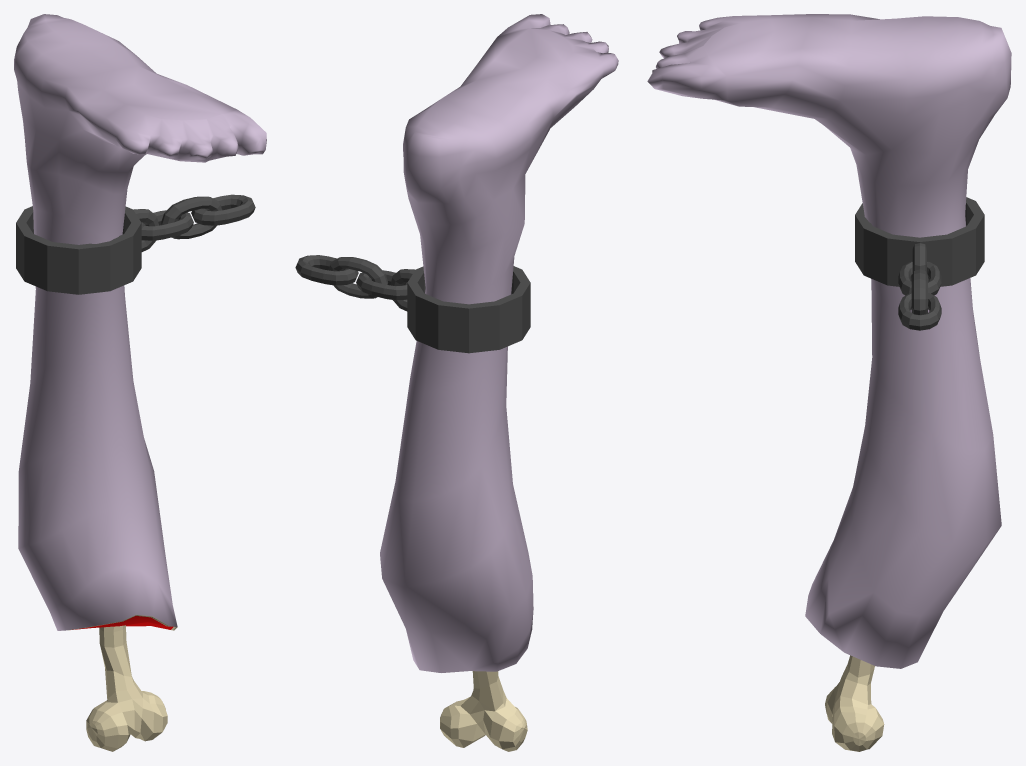
File: footlong.fbx
3 views of the same model, side by side, from view 1: azimuth 30°, elevation 25°; view 2: azimuth 150°, elevation 25°; view 3: azimuth 270°, elevation 25° (orthographic). The views are drawn at different scales.
Parts seen in each view (by area): view 1: SmJot_Body_Mesh_Cube.001, Cylinder.003, Cylinder.014, Torus.002, Torus.001, Torus; view 2: SmJot_Body_Mesh_Cube.001, Cylinder.003, Cylinder.014, Torus.002, Torus.001, Torus; view 3: SmJot_Body_Mesh_Cube.001, Cylinder.003, Cylinder.014, Torus.002, Torus, Torus.001.
Part boxes in pixels (x1=…): SmJot_Body_Mesh_Cube.001: x1=14, y1=14, x2=266, y2=630; Cylinder.003: x1=16, y1=206, x2=159, y2=294; Cylinder.014: x1=86, y1=625, x2=167, y2=751; Torus.002: x1=191, y1=194, x2=255, y2=225; Torus.001: x1=161, y1=196, x2=222, y2=239; Torus: x1=141, y1=210, x2=193, y2=240; SmJot_Body_Mesh_Cube.001: x1=380, y1=14, x2=618, y2=672; Cylinder.003: x1=390, y1=266, x2=530, y2=353; Cylinder.014: x1=440, y1=671, x2=527, y2=751; Torus.002: x1=295, y1=255, x2=358, y2=285; Torus.001: x1=328, y1=257, x2=387, y2=298; Torus: x1=356, y1=270, x2=407, y2=300; SmJot_Body_Mesh_Cube.001: x1=647, y1=14, x2=1011, y2=668; Cylinder.003: x1=855, y1=197, x2=984, y2=286; Cylinder.014: x1=825, y1=655, x2=884, y2=751; Torus.002: x1=898, y1=293, x2=941, y2=330; Torus: x1=898, y1=261, x2=941, y2=295; Torus.001: x1=911, y1=269, x2=927, y2=314.
Bounding box in the file's own units: 20.03 × 56.15 × 26.45.
